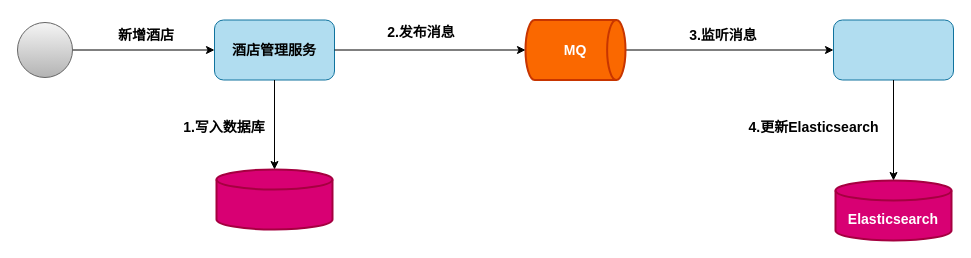
Some shapes in this 971 by 258 pixel diagram are drawn without their labels. The shapes that lost their labels are listed below. From the top down, each one's centre as x and y in pixels, then its label:
At (893,49): "酒店搜索服务".
At (274,199): "MySQL".
